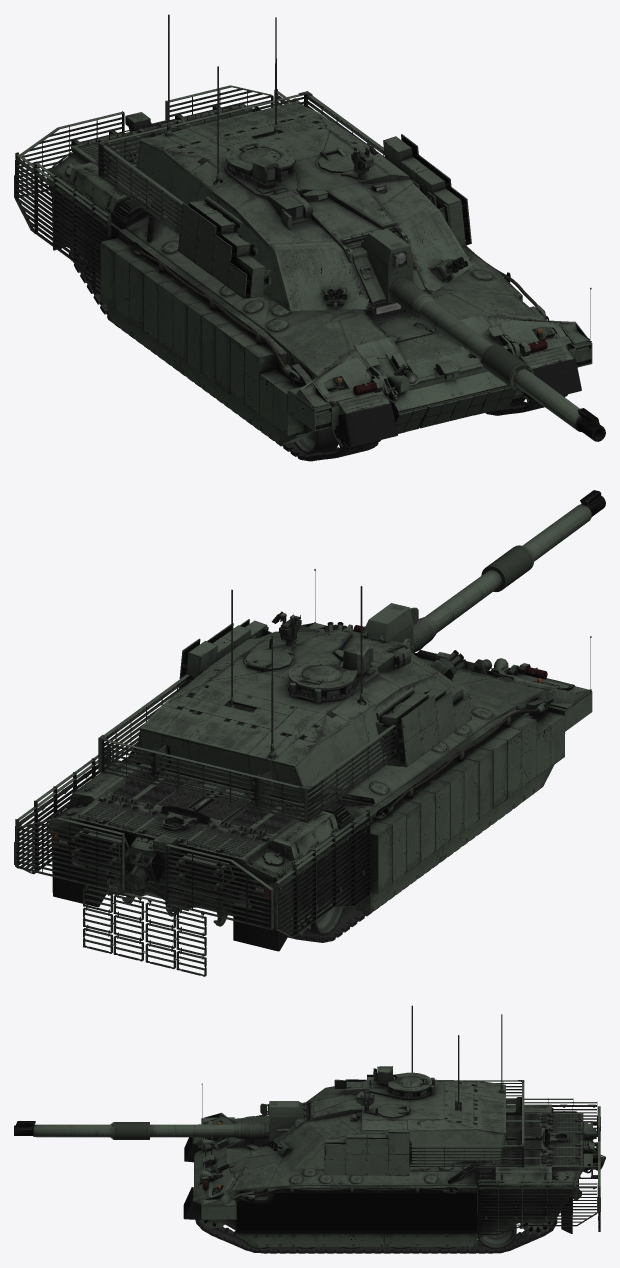
3 renders of one model, top to bottom at view 1: azimuth 30°, elevation 25°; view 2: azimuth 150°, elevation 25°; view 3: azimuth 270°, elevation 25°, orthographic. The views are drawn at different scales.
Parts seen in each view (by area): view 1: g_turret_challenger2, hull, g_applique01_hull, g_cage01_hull, g_cage01_turret_challenger2, g_cannon_l30a1, g_era08_hull, g_era07_hull, g_era06_hull, g_cannonbase_challenger2_l30a1, g_era03_turret_challenger2, g_era04_turret_challenger2 (+8 smaller); view 2: g_turret_challenger2, hull, g_cage01_hull, g_applique01_hull, g_cage01_turret_challenger2, g_era08_hull, g_cannon_l30a1, g_era07_hull, g_era06_hull, g_era04_turret_challenger2, g_cannonbase_challenger2_l30a1, g_era05_hull (+5 smaller); view 3: g_applique01_hull, g_turret_challenger2, hull, g_cage01_hull, g_cannon_l30a1, g_cage01_turret_challenger2, tread_left, g_era02_turret_challenger2, g_era01_turret_challenger2, g_cannonbase_challenger2_l30a1, cannon_l30a1_skinned, wheel7.
Part boxes in pixels (x1,y1,x2,y2): g_turret_challenger2: [135, 102, 472, 311]; hull: [49, 103, 573, 433]; g_applique01_hull: [47, 178, 592, 446]; g_cage01_hull: [14, 85, 303, 295]; g_cage01_turret_challenger2: [98, 91, 450, 289]; g_cannon_l30a1: [420, 300, 605, 441]; g_era08_hull: [100, 238, 175, 341]; g_era07_hull: [158, 280, 232, 383]; g_era06_hull: [216, 322, 276, 415]; g_cannonbase_challenger2_l30a1: [347, 228, 425, 304]; g_era03_turret_challenger2: [211, 232, 265, 298]; g_era04_turret_challenger2: [178, 200, 234, 274]; g_turret_challenger2: [135, 611, 472, 800]; hull: [49, 650, 573, 926]; g_cage01_hull: [14, 747, 370, 976]; g_applique01_hull: [46, 569, 592, 951]; g_cage01_turret_challenger2: [98, 626, 432, 823]; g_era08_hull: [360, 789, 435, 893]; g_cannon_l30a1: [425, 490, 605, 633]; g_era07_hull: [419, 747, 493, 850]; g_era06_hull: [476, 715, 536, 808]; g_era04_turret_challenger2: [383, 693, 439, 767]; g_cannonbase_challenger2_l30a1: [350, 603, 418, 653]; g_era05_hull: [536, 711, 564, 777]; g_applique01_hull: [183, 1083, 574, 1246]; g_turret_challenger2: [268, 1066, 506, 1169]; hull: [192, 1104, 605, 1208]; g_cage01_hull: [477, 1098, 600, 1235]; g_cannon_l30a1: [14, 1121, 233, 1139]; g_cage01_turret_challenger2: [324, 1080, 524, 1167]; tread_left: [195, 1219, 557, 1253]; g_era02_turret_challenger2: [366, 1129, 409, 1175]; g_era01_turret_challenger2: [324, 1134, 366, 1175]; g_cannonbase_challenger2_l30a1: [260, 1101, 306, 1141]; cannon_l30a1_skinned: [233, 1122, 269, 1139]; wheel7: [477, 1216, 516, 1248].
Size of the model in its own units: 4074 by 4634 by 11656.
Materials: 9 (9 with a texture image).
